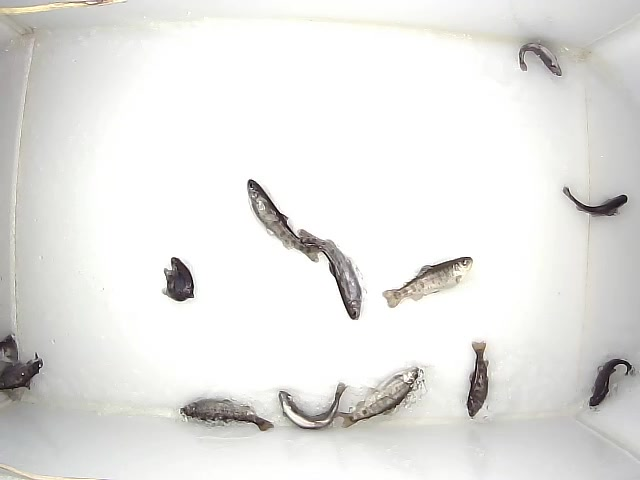fish: (247, 179, 321, 262), (297, 229, 362, 320), (339, 367, 423, 428), (382, 257, 473, 308), (279, 382, 348, 430), (180, 399, 274, 431), (589, 359, 633, 406), (563, 187, 628, 217), (467, 341, 489, 417), (1, 352, 43, 390), (161, 257, 194, 302), (519, 43, 562, 76), (1, 333, 18, 375)
